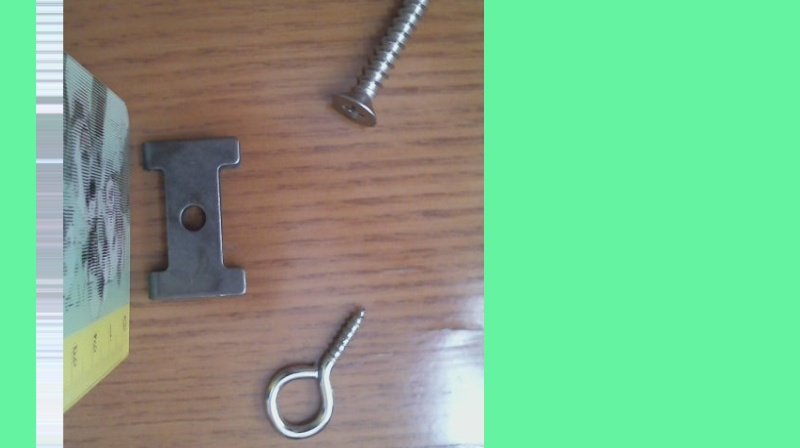O001: (260, 302, 372, 442)
O002: (141, 133, 248, 305)
S001: (326, 0, 435, 134)
